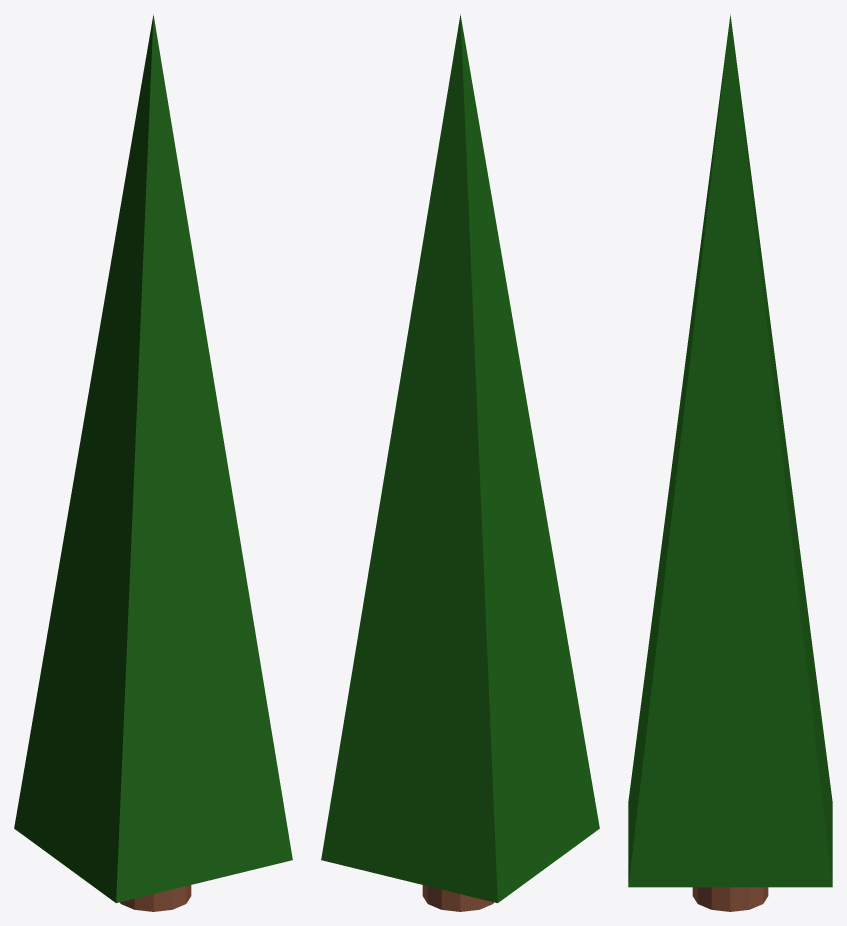
The model's file is Tree_19_autumn.fbx.
3 views of the same model, side by side, from view 1: azimuth 30°, elevation 25°; view 2: azimuth 150°, elevation 25°; view 3: azimuth 270°, elevation 25° (orthographic).
Visible parts, largest first — view 1: Tree_19_autumn; view 2: Tree_19_autumn; view 3: Tree_19_autumn.
Boxes of the visible parts, bbox=[...] form: Tree_19_autumn: bbox=[14, 14, 292, 911]; Tree_19_autumn: bbox=[321, 14, 599, 911]; Tree_19_autumn: bbox=[628, 14, 832, 911].
Bounding box in the file's own units: 59.69 × 285 × 59.69.
